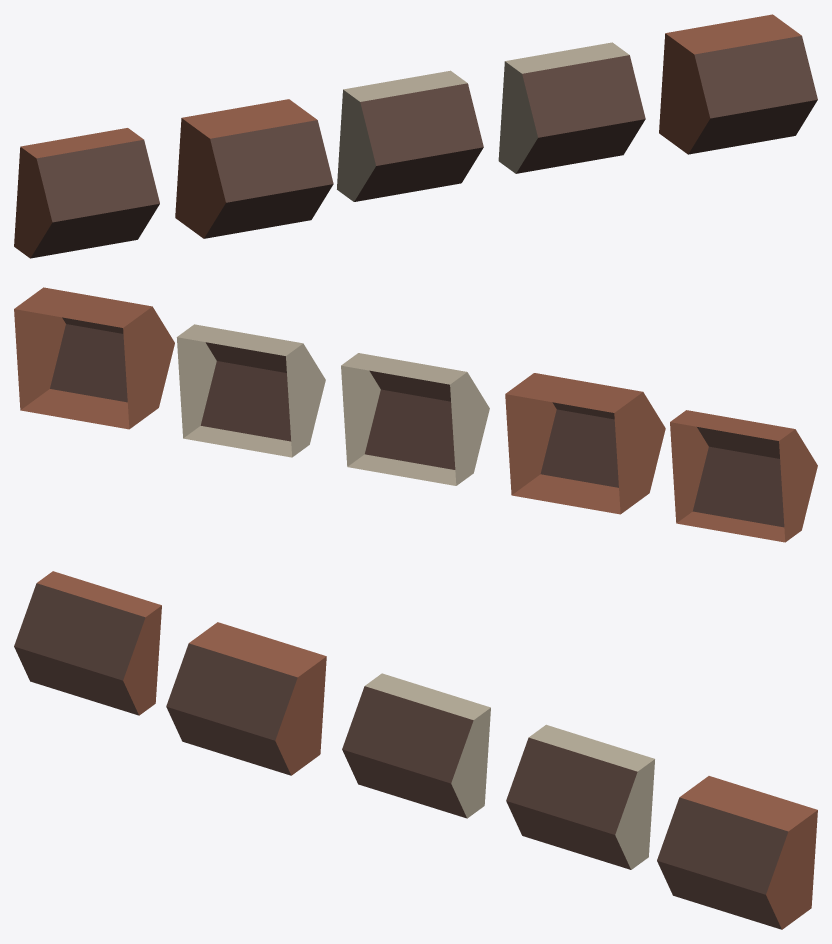
The model's file is island_bldg_14_05.obj.
3 renders of one model, top to bottom at view 1: azimuth 30°, elevation 25°; view 2: azimuth 150°, elevation 25°; view 3: azimuth 330°, elevation 25°, orthographic.
Parts seen in each view (by area): view 1: island_bldg_14_05; view 2: island_bldg_14_05; view 3: island_bldg_14_05.
Boxes of the visible parts, left/top/right/bottom form: island_bldg_14_05: left=14, top=14, right=817, bottom=258; island_bldg_14_05: left=14, top=287, right=817, bottom=542; island_bldg_14_05: left=14, top=571, right=817, bottom=929.
Size of the model in its own units: 113 by 21.43 by 12.39.
